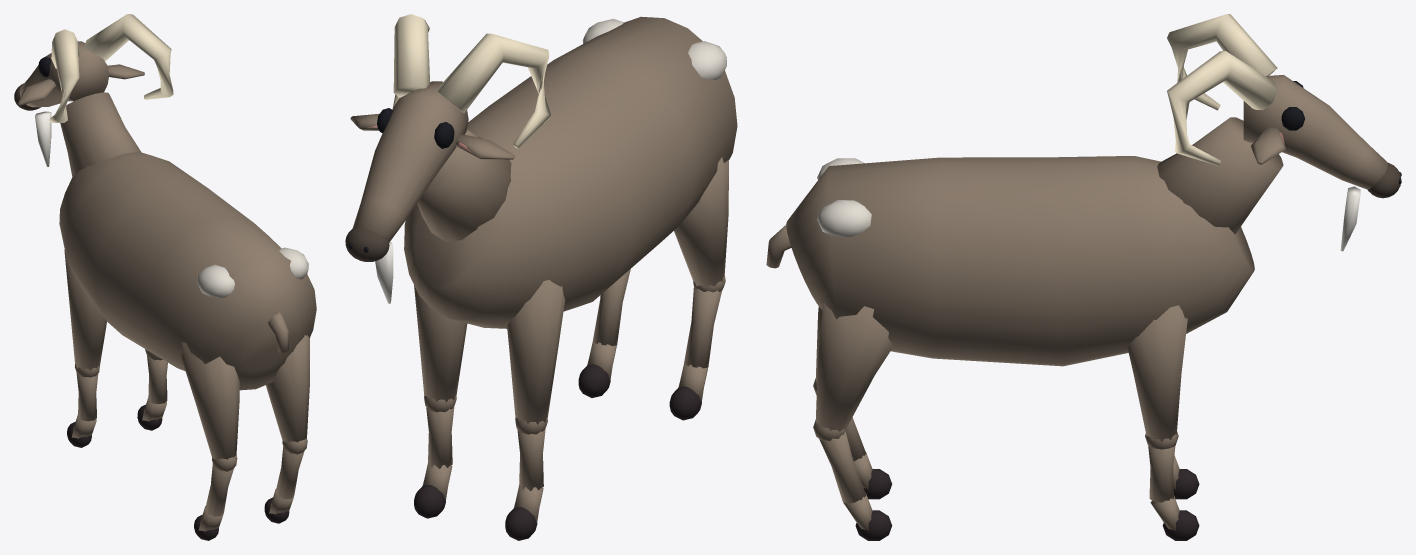
Rendered from beast_mountain_ram.glb.
3 renders of one model, left to right at view 1: azimuth 30°, elevation 25°; view 2: azimuth 150°, elevation 25°; view 3: azimuth 270°, elevation 25°, orthographic. The views are drawn at different scales.
Parts seen in each view (by area): view 1: body, head, leg_br, neck, leg_bl, leg_fr, shin_bl, shin_br, shin_fr, shin_fl, ear_r, tail (+1 smaller); view 2: body, head, leg_fr, neck, leg_br, leg_fl, shin_br, shin_bl, shin_fr, shin_fl, ear_r; view 3: body, head, neck, leg_bl, leg_fl, shin_bl, shin_fl, shin_br, ear_l, shin_fr.
Boxes of the visible parts, bbox=[...] form: body: bbox=[59, 151, 316, 390]; head: bbox=[14, 14, 173, 166]; leg_br: bbox=[181, 342, 239, 471]; neck: bbox=[60, 92, 141, 177]; leg_bl: bbox=[266, 335, 309, 454]; leg_fr: bbox=[64, 250, 106, 377]; shin_bl: bbox=[264, 446, 304, 523]; shin_br: bbox=[194, 463, 233, 540]; shin_fr: bbox=[67, 372, 98, 447]; shin_fl: bbox=[137, 355, 167, 430]; ear_r: bbox=[18, 79, 56, 105]; tail: bbox=[268, 311, 288, 352]; body: bbox=[404, 16, 737, 328]; head: bbox=[345, 14, 551, 303]; leg_fr: bbox=[507, 280, 565, 434]; neck: bbox=[417, 129, 511, 241]; leg_br: bbox=[674, 157, 728, 292]; leg_fl: bbox=[414, 285, 467, 412]; shin_br: bbox=[669, 287, 722, 420]; shin_bl: bbox=[578, 269, 630, 397]; shin_fr: bbox=[505, 428, 545, 540]; shin_fl: bbox=[414, 405, 454, 518]; ear_r: bbox=[456, 134, 514, 159]; body: bbox=[786, 156, 1254, 366]; head: bbox=[1167, 14, 1401, 251]; neck: bbox=[1157, 117, 1283, 234]; leg_bl: bbox=[813, 302, 893, 440]; leg_fl: bbox=[1127, 305, 1187, 449]; shin_bl: bbox=[819, 431, 892, 540]; shin_fl: bbox=[1148, 446, 1199, 540]; shin_br: bbox=[845, 417, 892, 499]; ear_l: bbox=[1250, 127, 1285, 164]; shin_fr: bbox=[1173, 455, 1199, 499].
Bounding box in the file's own units: 0.48 × 1.31 × 1.55.
